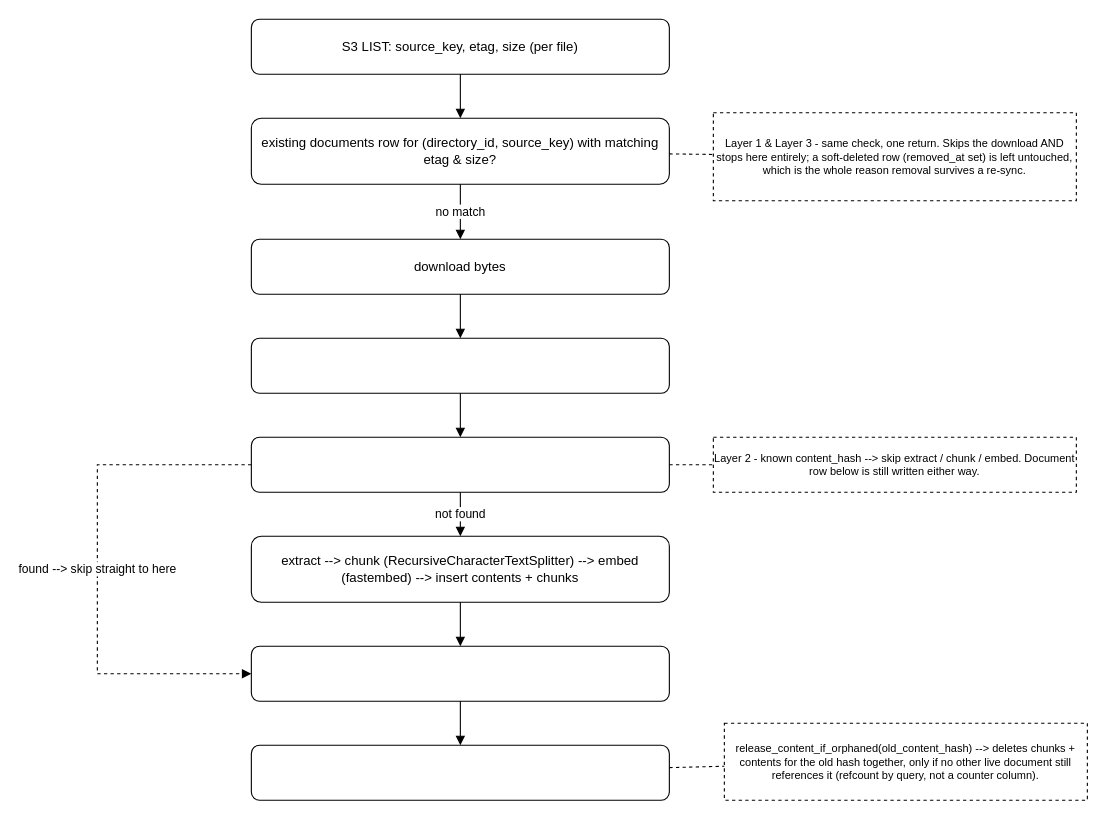
Image size: 1107x820. Some labels were removed from this diagram. The centre of each missing label's shape, as x and y in pixels:
"content_hash at this path changed vs. last sync?" goes at point (459, 772).
"contents[content_hash] exists?" goes at point (459, 464).
"sha256(bytes) --> content_hash" goes at point (459, 365).
"upsert documents row --> content_hash, state='indexed', removed_at cleared" goes at point (459, 673).
